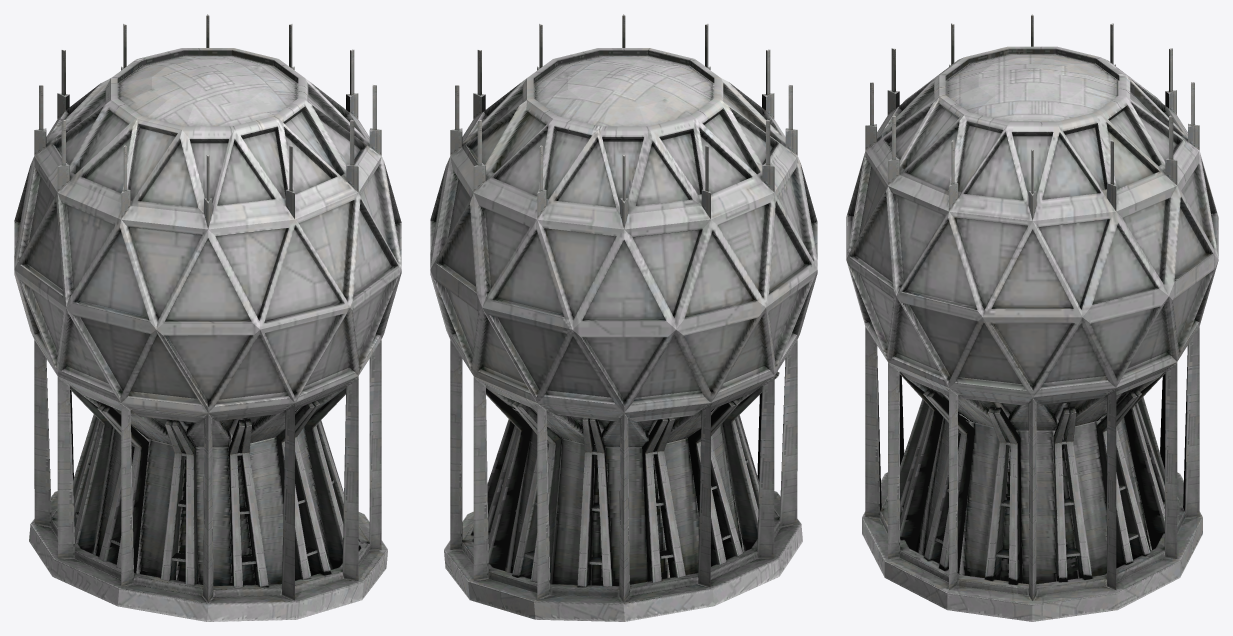
The model's file is star_destroyer_shieldtower_2_l0.fbx.
3 renders of one model, left to right at view 1: azimuth 30°, elevation 25°; view 2: azimuth 150°, elevation 25°; view 3: azimuth 270°, elevation 25°, orthographic. The views are drawn at different scales.
Visible parts, largest first — view 1: mesh_node; view 2: mesh_node; view 3: mesh_node.
Part boxes in pixels (x1,y1,x2,y2): mesh_node: (14, 14, 401, 621); mesh_node: (430, 14, 817, 621); mesh_node: (846, 14, 1218, 621).
Bounding box in the file's own units: 70.23 × 99.13 × 70.23.
1 material, 1 textured.
